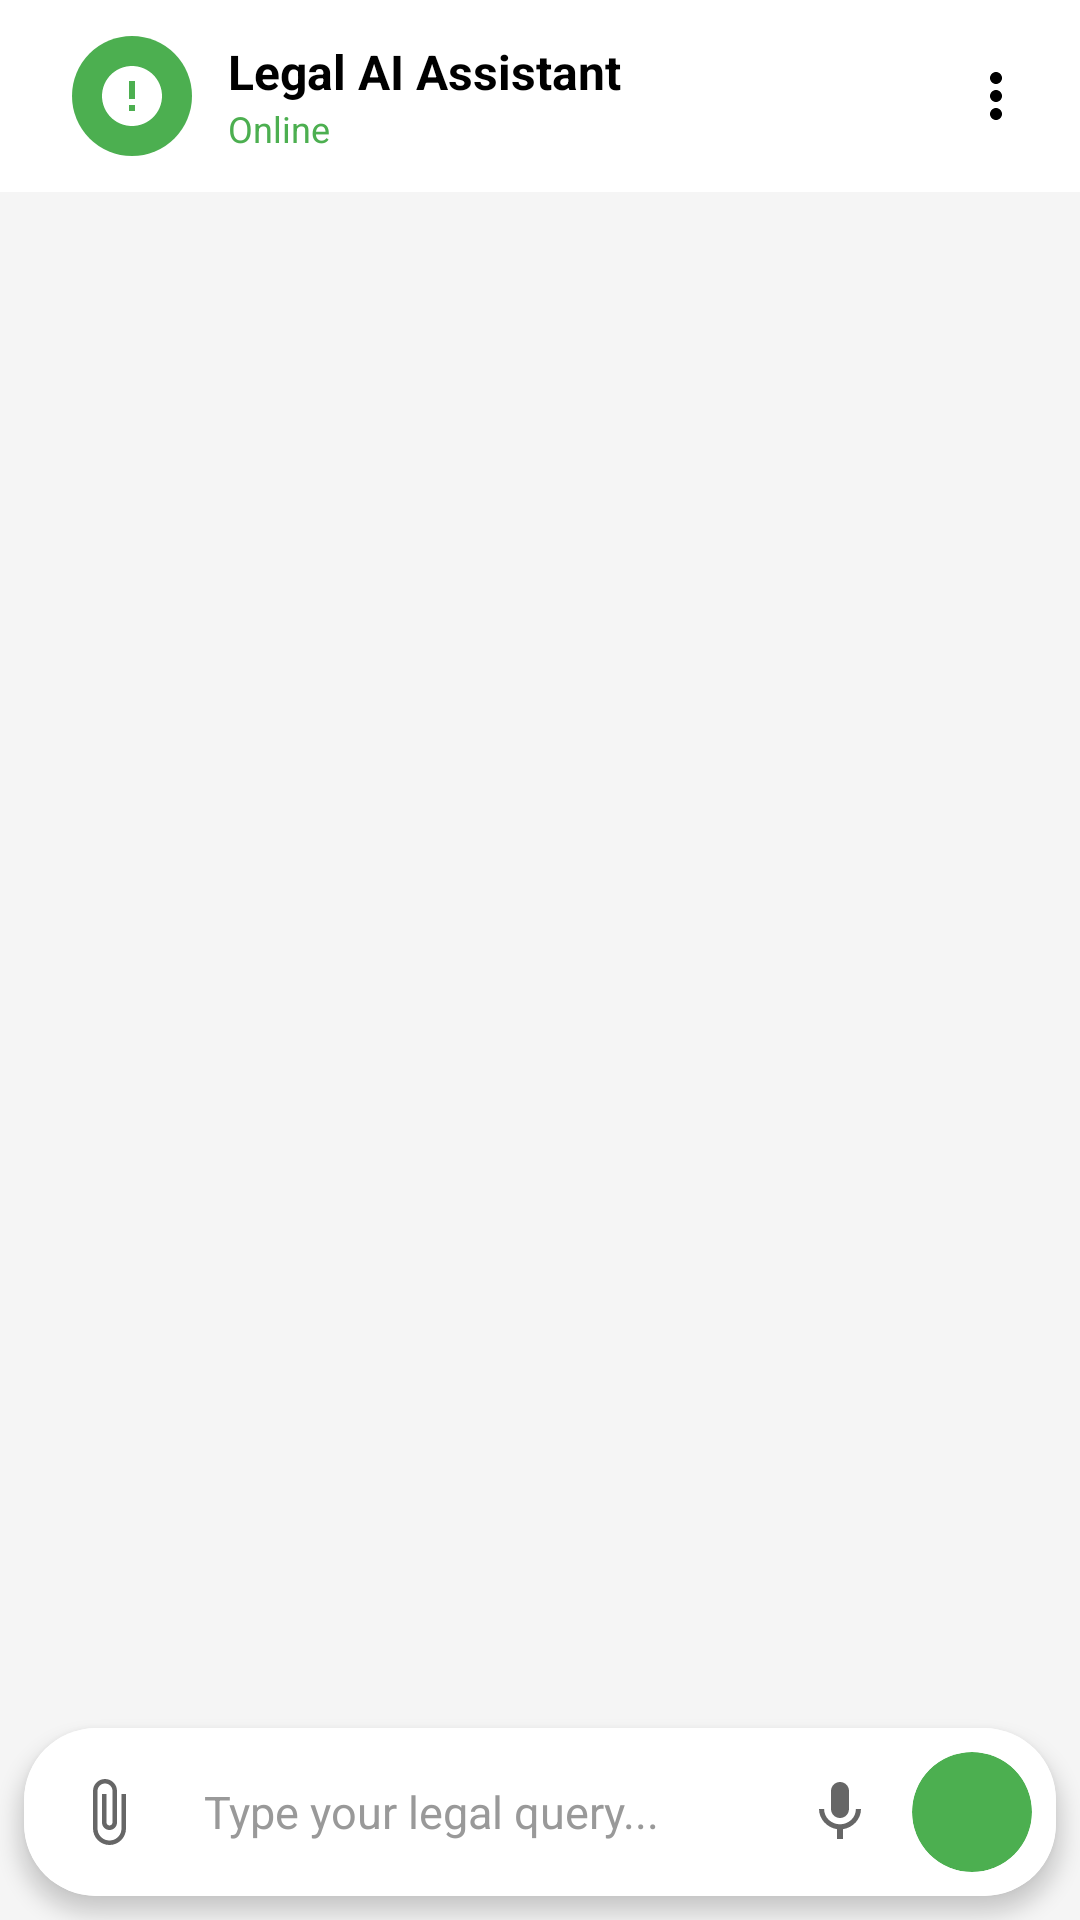

Screen size 1080*1920. Icon name, then its box in pixels as (x1, y1, x2, y2):
Attach file: (93, 1779, 126, 1845)
Menu: (990, 72, 1002, 120)
Voice input: (819, 1782, 861, 1839)
